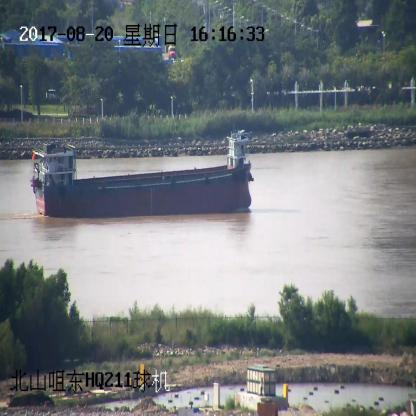Bulk Carrier: (31, 131, 254, 213)
